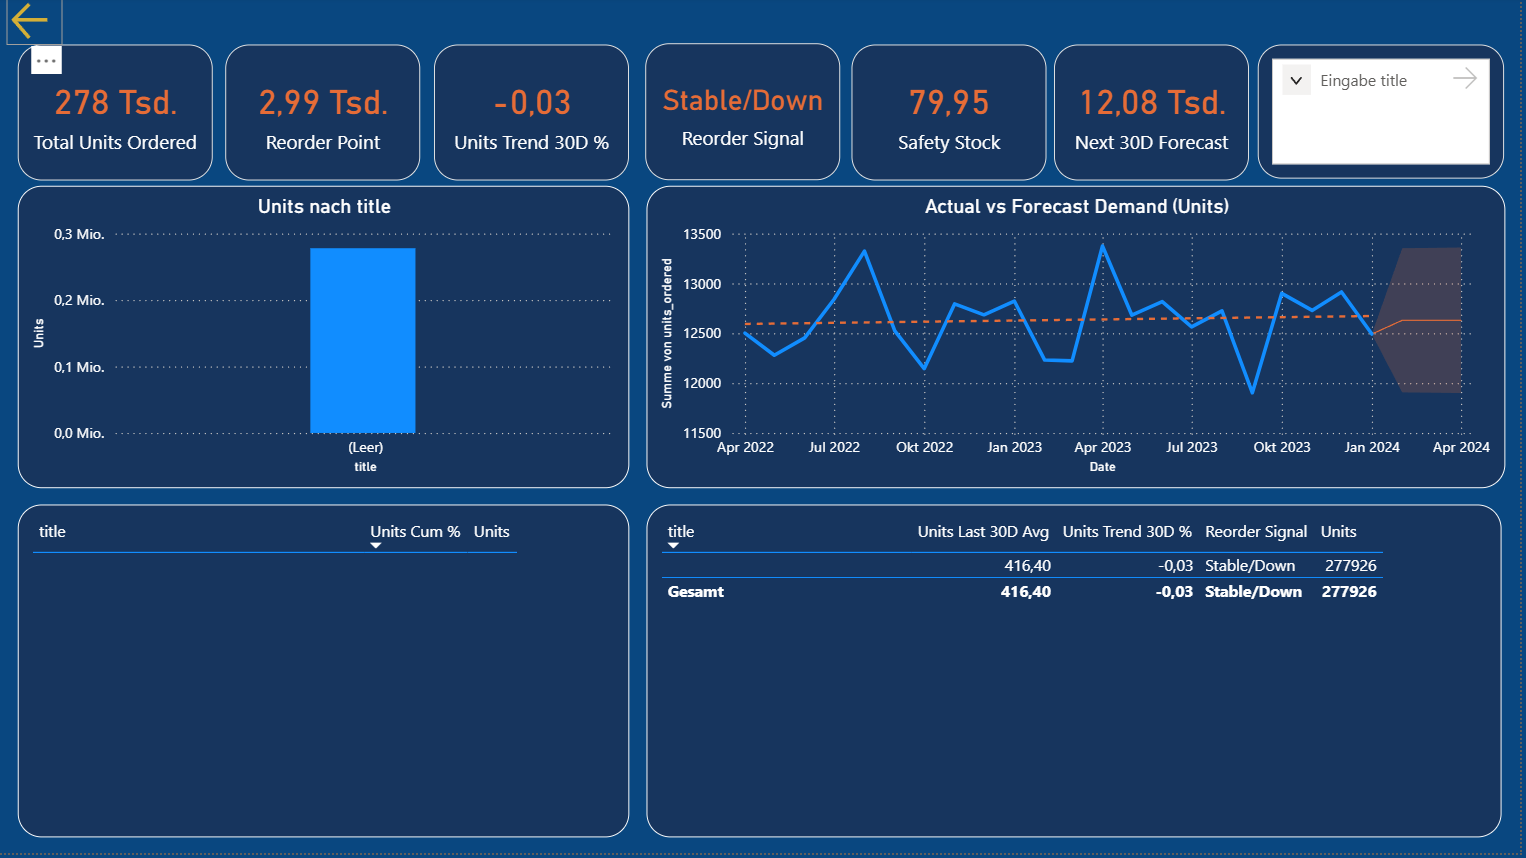

This screenshot's page, from the dashboard's own definition file:
{"tool":"powerbi","page":{"name":"Stock and Demand 2(forecast))","canvas":[1280,720],"ordinal":8},"visuals":[{"type":"lineChart","title":"Actual vs Forecast Demand (Units)","fields":{"Y":["Sum(final_fact.units_ordered)"],"Category":["DimDate.Date.Variation.Date Hierarchy.Year"]},"box":[544.2,158.9,722.1,254.7],"z":0},{"type":"card","fields":{"Values":["Sum(final_fact.units_ordered)"]},"box":[16.2,40.4,164.3,114],"z":1000},{"type":"clusteredColumnChart","fields":{"Category":["dim_product.title"],"Y":["Stok & Talep Measure.Units"]},"box":[15.8,158.9,514.7,254.7],"z":2000},{"type":"tableEx","fields":{"Values":["dim_product.title","Stok & Talep Measure.Units Cum %","Stok & Talep Measure.Units"]},"box":[15.8,427.4,514.7,280],"z":3000},{"type":"card","fields":{"Values":["Stok & Talep Measure.Units Trend 30D %"]},"box":[366.3,39.5,164.3,114],"z":4000},{"type":"card","fields":{"Values":["Stok & Talep Measure.Reorder Signal"]},"box":[544,38.6,164.3,114.9],"z":5000},{"type":"tableEx","fields":{"Values":["dim_product.title","Stok & Talep Measure.Units Last 30D Avg","Stok & Talep Measure.Units Trend 30D %","Stok & Talep Measure.Reorder Signal","Stok & Talep Measure.Units"]},"box":[544.2,427.4,718.9,280],"z":6000},{"type":"card","fields":{"Values":["Yeni Measure.Next 30D Forecast"]},"box":[887.9,40.4,164.3,114],"z":7000},{"type":"card","fields":{"Values":["Yeni Measure.Reorder Point"]},"box":[190.3,39.5,164.3,114],"z":8000},{"type":"card","fields":{"Values":["Yeni Measure.Safety Stock"]},"box":[717.3,40.4,164.3,114],"z":9000},{"type":"textSlicer","fields":{"Values":["dim_product.title"]},"box":[1058.5,40.4,207.4,113.1],"z":10000},{"type":"actionButton","box":[6.3,0,47.6,40.4],"z":11000}]}

Visuals, with their boxes in screenshot pixels (x1, y1, x2, y2), scaled from the page's 1280x720 canvas onto the 1526x858 screenshot:
"Actual vs Forecast Demand (Units)" lineChart: left=649, top=189, right=1510, bottom=493
card - Sum(final_fact.units_ordered): left=19, top=48, right=215, bottom=184
clusteredColumnChart - dim_product.title x Stok & Talep Measure.Units: left=19, top=189, right=632, bottom=493
tableEx - dim_product.title x Stok & Talep Measure.Units Cum %: left=19, top=509, right=632, bottom=843
card - Stok & Talep Measure.Units Trend 30D %: left=437, top=47, right=633, bottom=183
card - Stok & Talep Measure.Reorder Signal: left=649, top=46, right=844, bottom=183
tableEx - dim_product.title x Stok & Talep Measure.Units Last 30D Avg: left=649, top=509, right=1506, bottom=843
card - Yeni Measure.Next 30D Forecast: left=1059, top=48, right=1254, bottom=184
card - Yeni Measure.Reorder Point: left=227, top=47, right=423, bottom=183
card - Yeni Measure.Safety Stock: left=855, top=48, right=1051, bottom=184
textSlicer - dim_product.title: left=1262, top=48, right=1509, bottom=183
actionButton: left=8, top=0, right=64, bottom=48
